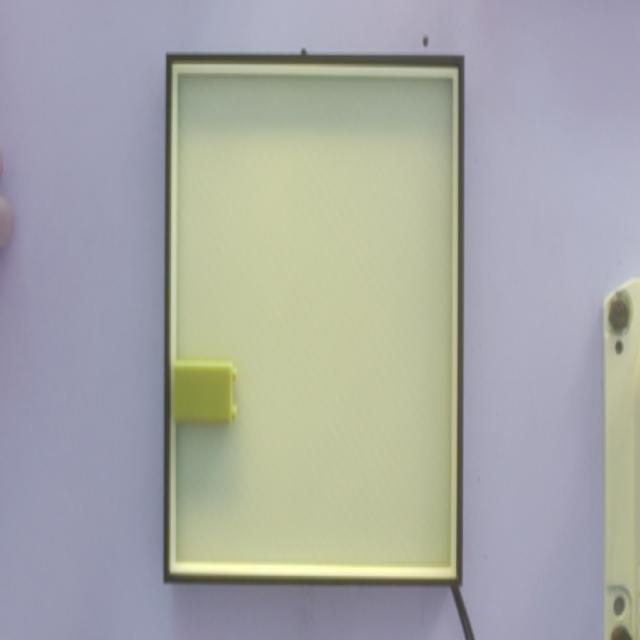bateria: (172, 359, 237, 425)
mesa: (164, 54, 464, 586)
